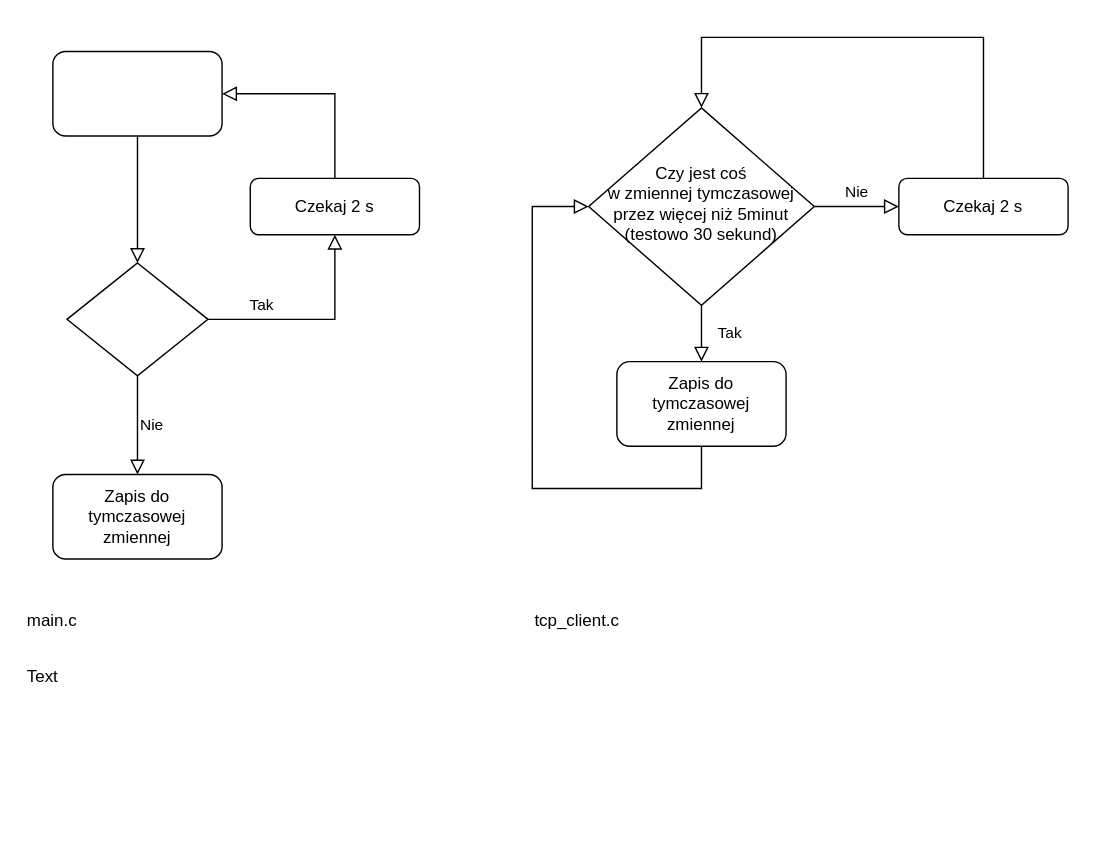
The diagram is 1093 pixels wide and 852 high, and some of its shapes have lost their labels. The shapes that lost their labels are listed below. From the top down, each one's centre as x and y in pixels, then its label:
At point 136,93: "Generowanie statusu i zapis do zmiennej tymczasowej".
At point 137,319: "Wysłanie statusu".
